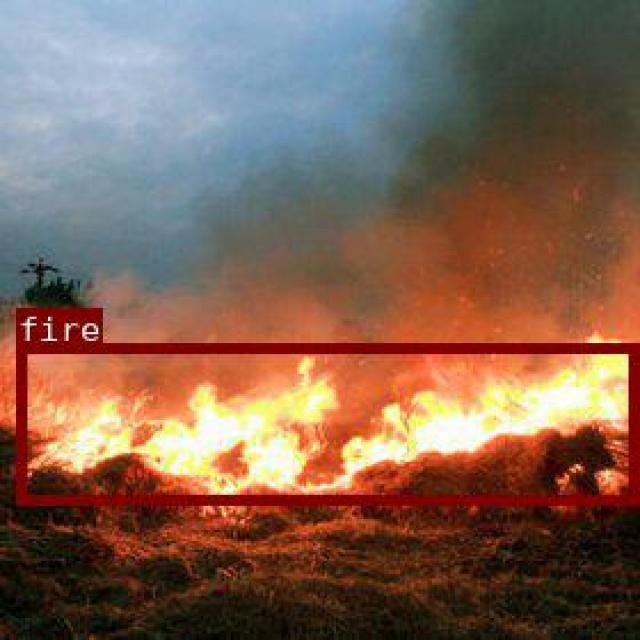fire: (16, 343, 636, 501)
